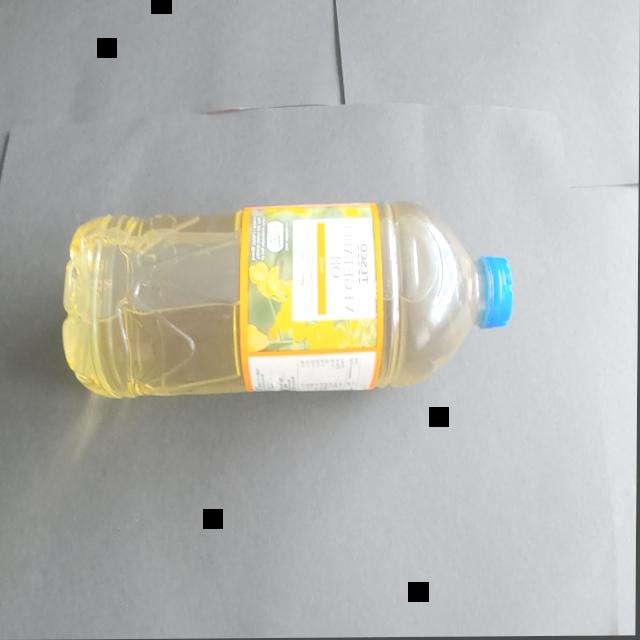Vegetableoil: (46, 169, 535, 426)
